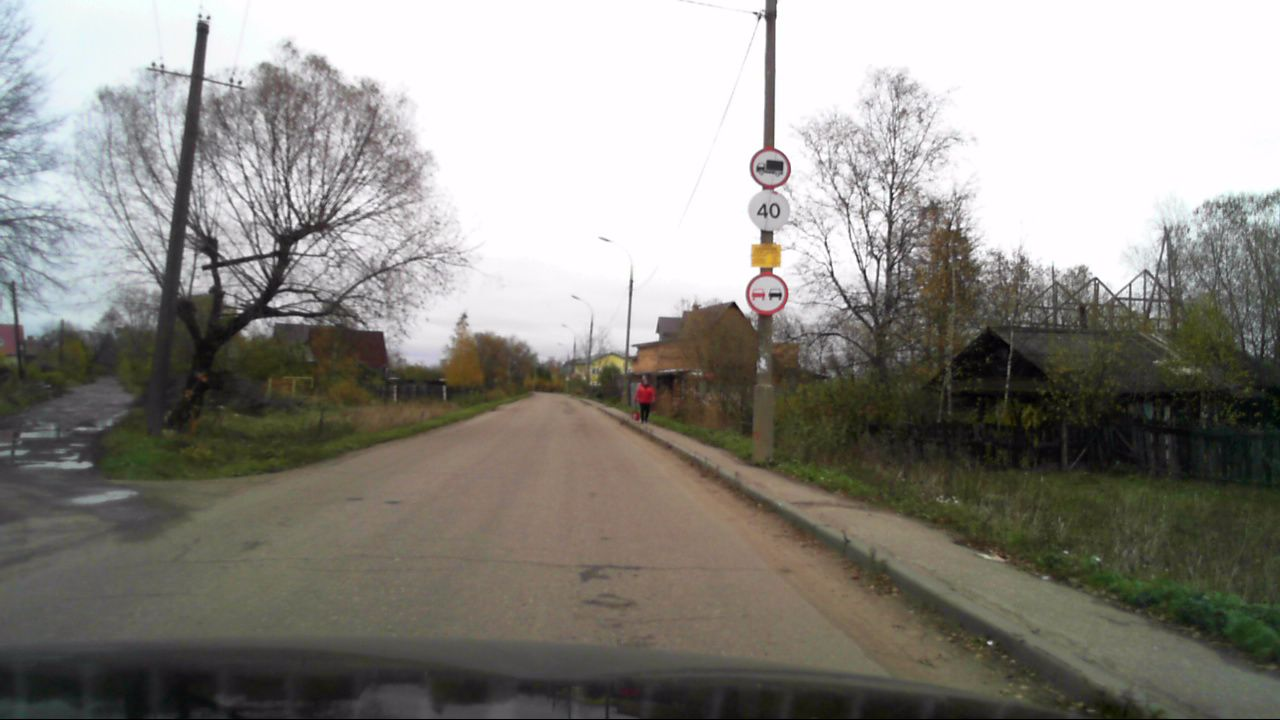speed_warning_40: (748, 190, 791, 235)
